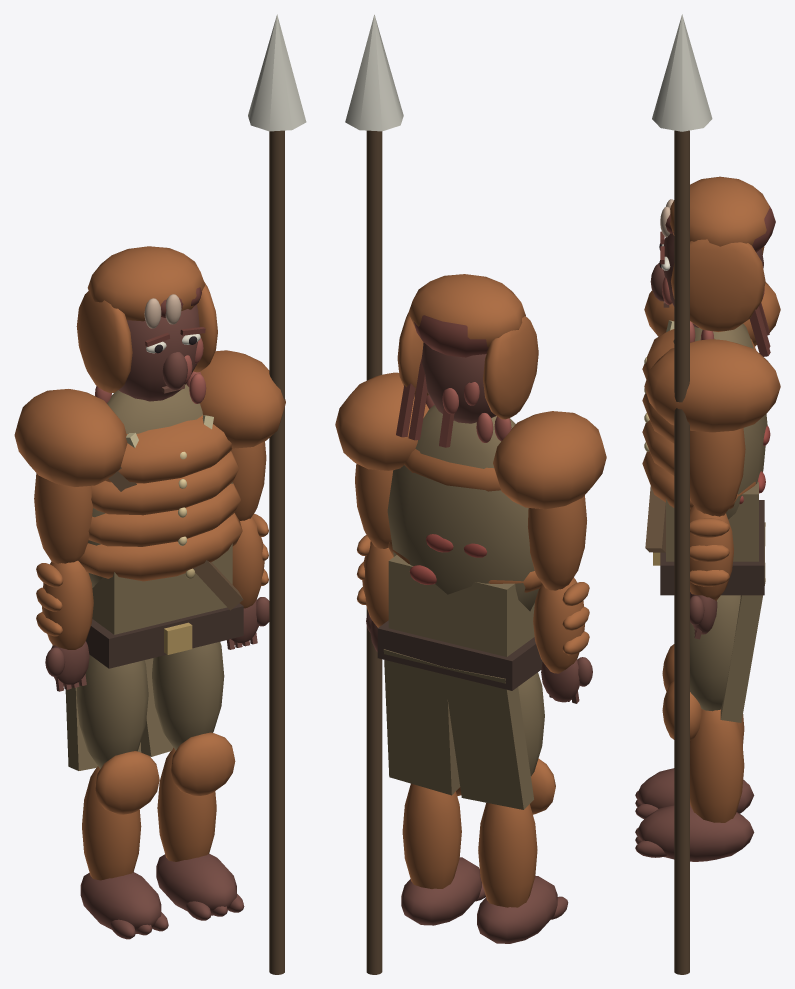
The model's file is warform.glb.
The picture shows the model from 3 angles, left to right: view 1: azimuth 30°, elevation 25°; view 2: azimuth 150°, elevation 25°; view 3: azimuth 270°, elevation 25°; orthographic projection.
Parts seen in each view (by area): view 1: warform_11_stone, shin_and_foot_stone (×2), face_and_hair_stone, spear_stone, thigh_stone (×2), forearm_and_fingers_stone (×2), upper_arm_stone (×2), split_cloth_stone, warform_11_metal; view 2: warform_11_stone, face_and_hair_stone, shin_and_foot_stone (×2), split_cloth_stone, spear_stone, forearm_and_fingers_stone (×2), upper_arm_stone (×2), thigh_stone; view 3: warform_11_stone, spear_stone, face_and_hair_stone, shin_and_foot_stone (×2), forearm_and_fingers_stone, upper_arm_stone, thigh_stone, split_cloth_stone.
Boxes of the visible parts, left/top/right/bottom form: warform_11_stone: left=14, top=350, right=285, bottom=668; shin_and_foot_stone (×2): left=80, top=732, right=244, bottom=939; face_and_hair_stone: left=76, top=246, right=217, bottom=403; spear_stone: left=248, top=14, right=306, bottom=974; thigh_stone (×2): left=76, top=642, right=224, bottom=768; forearm_and_fingers_stone (×2): left=36, top=513, right=269, bottom=691; upper_arm_stone (×2): left=34, top=441, right=266, bottom=563; split_cloth_stone: left=65, top=658, right=173, bottom=770; warform_11_metal: left=164, top=451, right=195, bottom=654; warform_11_stone: left=335, top=372, right=606, bottom=690; face_and_hair_stone: left=396, top=274, right=538, bottom=447; shin_and_foot_stone (×2): left=401, top=758, right=568, bottom=943; split_cloth_stone: left=383, top=649, right=533, bottom=809; spear_stone: left=345, top=14, right=403, bottom=974; forearm_and_fingers_stone (×2): left=357, top=535, right=592, bottom=703; upper_arm_stone (×2): left=355, top=463, right=586, bottom=590; thigh_stone: left=518, top=672, right=544, bottom=776; warform_11_stone: left=642, top=282, right=780, bottom=595; spear_stone: left=652, top=14, right=712, bottom=974; face_and_hair_stone: left=650, top=176, right=775, bottom=356; shin_and_foot_stone (×2): left=635, top=644, right=754, bottom=861; forearm_and_fingers_stone: left=690, top=505, right=733, bottom=639; upper_arm_stone: left=690, top=428, right=745, bottom=516; thigh_stone: left=690, top=595, right=740, bottom=711; split_cloth_stone: left=720, top=522, right=765, bottom=722.
Size of the model in its own units: 0.88 by 3.06 by 0.4224.
